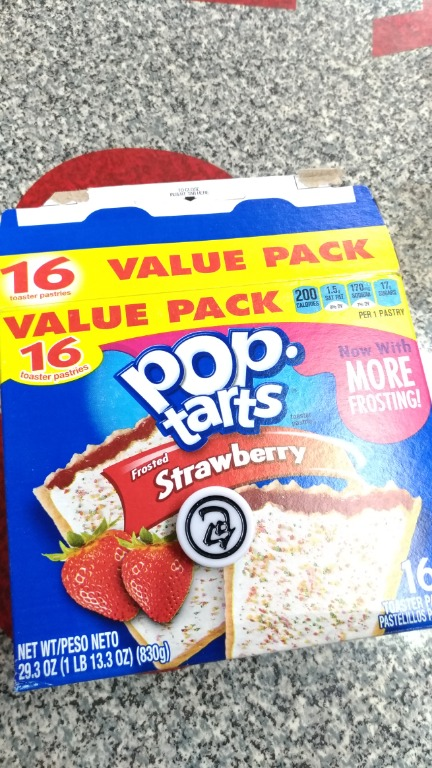b-cannon: (157, 478, 266, 583)
